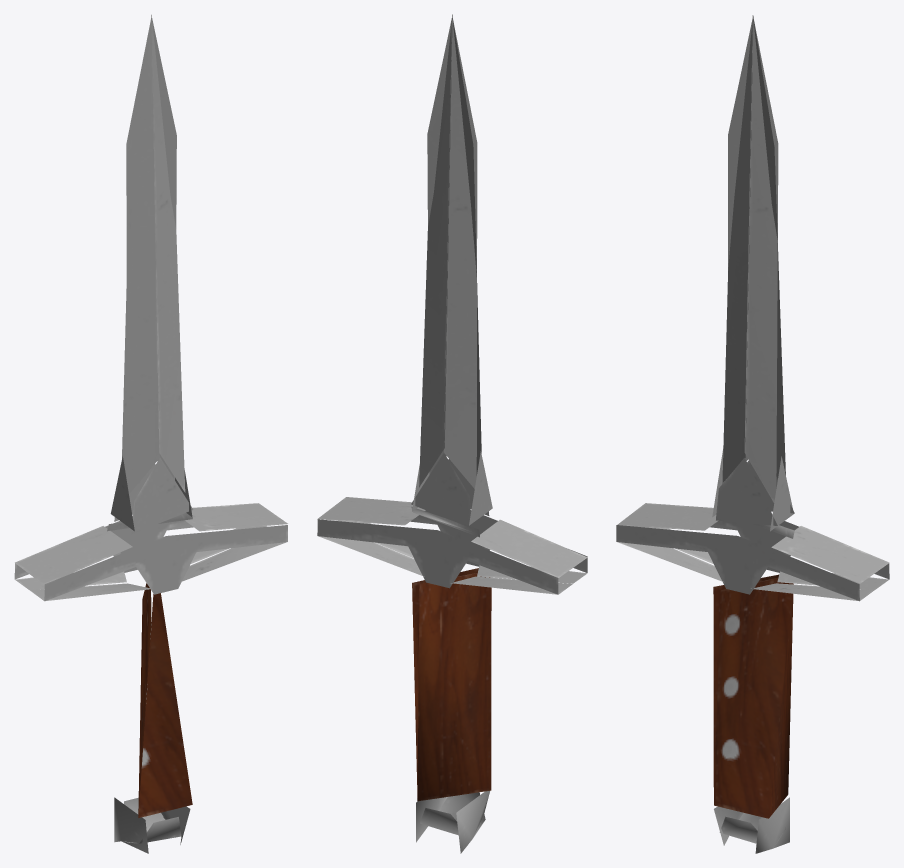
File: dagger_lod2.glb
3 views of the same model, side by side, from view 1: azimuth 30°, elevation 25°; view 2: azimuth 150°, elevation 25°; view 3: azimuth 330°, elevation 25° (orthographic).
Visible parts, largest first — view 1: Dagger_LOD2_temp; view 2: Dagger_LOD2_temp; view 3: Dagger_LOD2_temp.
Boxes of the visible parts, x1,y1,x2,y2 form: Dagger_LOD2_temp: [14, 14, 287, 853]; Dagger_LOD2_temp: [317, 14, 587, 853]; Dagger_LOD2_temp: [616, 15, 889, 853].
Bounding box in the file's own units: 0.1542 × 0.5022 × 0.0383.
1 material, 1 textured.
